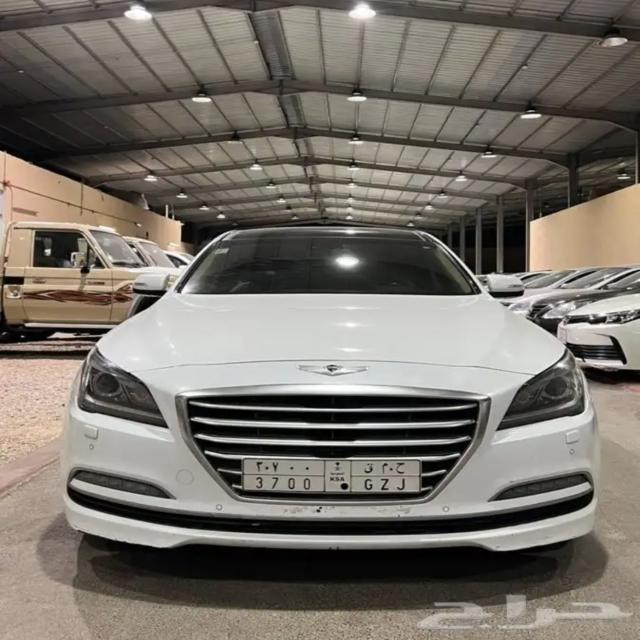license_plate: (241, 456, 422, 498)
